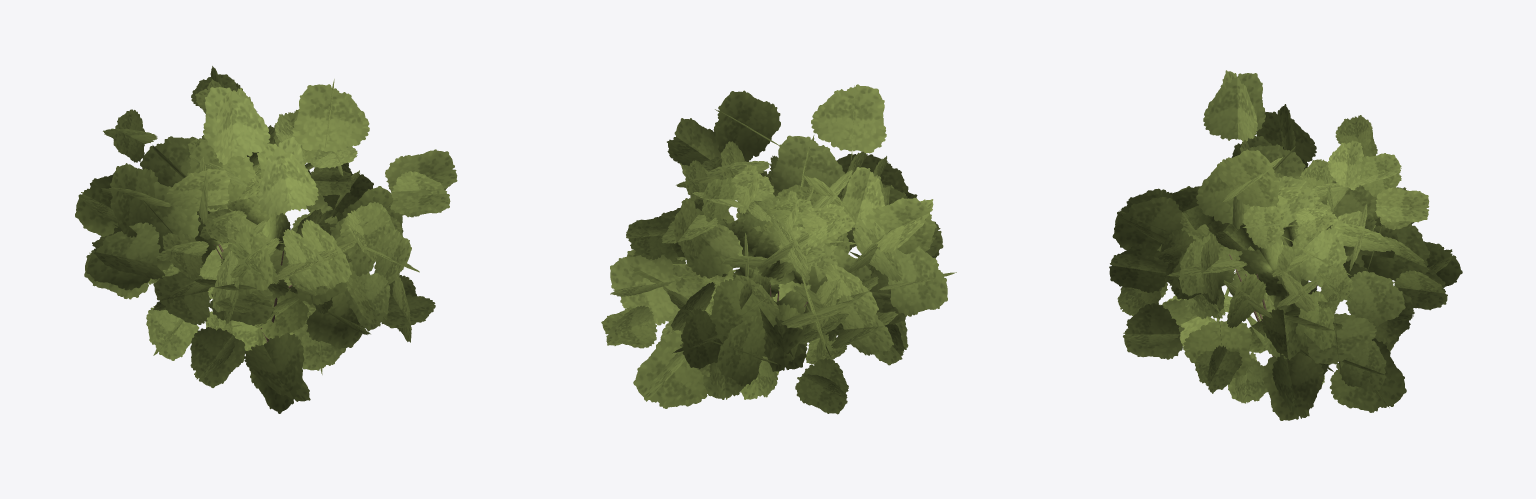
Rendered from matorral-muybajo.glb.
3 renders of one model, left to right at view 1: azimuth 30°, elevation 25°; view 2: azimuth 150°, elevation 25°; view 3: azimuth 270°, elevation 25°, orthographic. The views are drawn at different scales.
Parts seen in each view (by area): view 1: matorral; view 2: matorral; view 3: matorral.
Part boxes in pixels (x1,y1,x2,y2): matorral: [75, 66, 457, 413]; matorral: [601, 84, 956, 414]; matorral: [1109, 70, 1462, 420].
Bounding box in the file's own units: 4.56 × 4.14 × 4.66.
2 materials, 1 textured.
